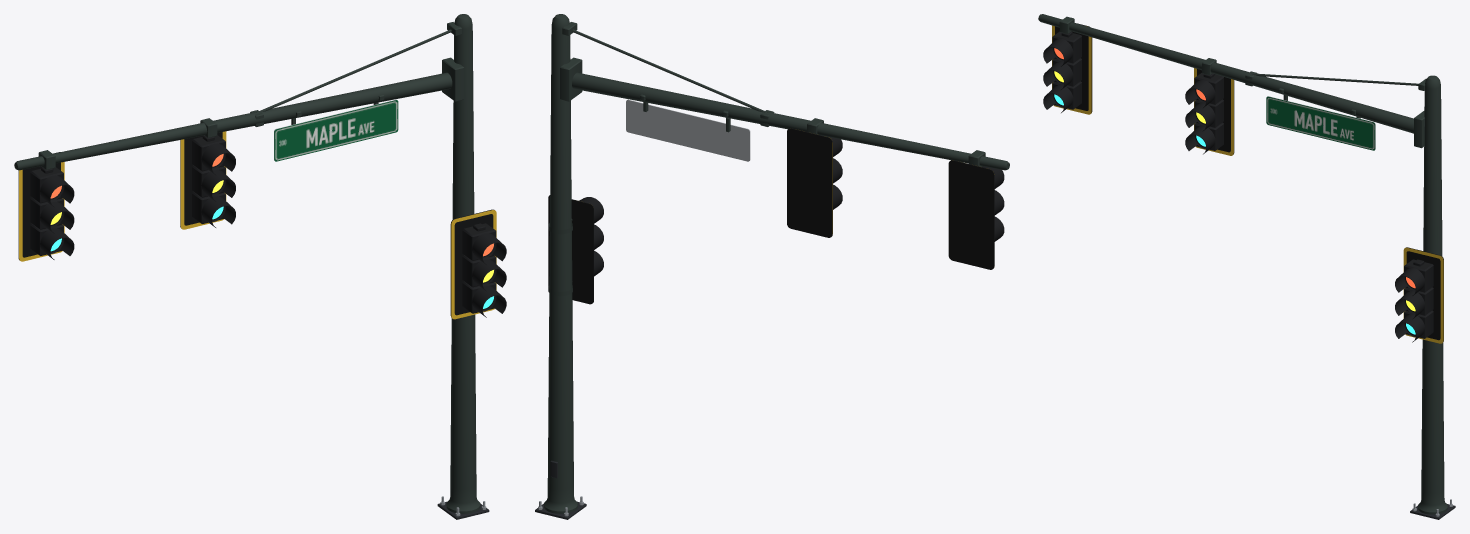
The model's file is TrafficSignalMast.fbx.
The picture shows the model from 3 angles, left to right: view 1: azimuth 30°, elevation 25°; view 2: azimuth 150°, elevation 25°; view 3: azimuth 330°, elevation 25°; orthographic projection. The views are drawn at different scales.
Parts seen in each view (by area): view 1: TrafficSignalMast_Mesh; view 2: TrafficSignalMast_Mesh; view 3: TrafficSignalMast_Mesh.
Part boxes in pixels (x1,y1,x2,y2): TrafficSignalMast_Mesh: (14, 14, 506, 519); TrafficSignalMast_Mesh: (535, 14, 1009, 519); TrafficSignalMast_Mesh: (1038, 14, 1455, 519).
Bounding box in the file's own units: 6.83 × 6.86 × 1.02.
